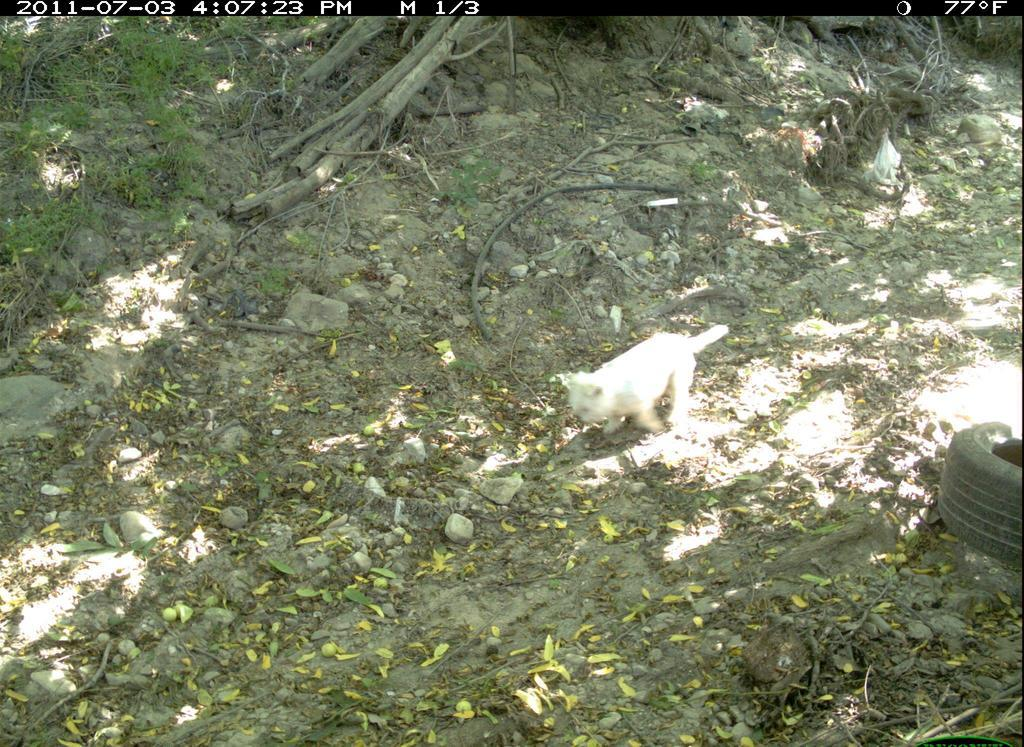dog: (557, 315, 735, 452)
